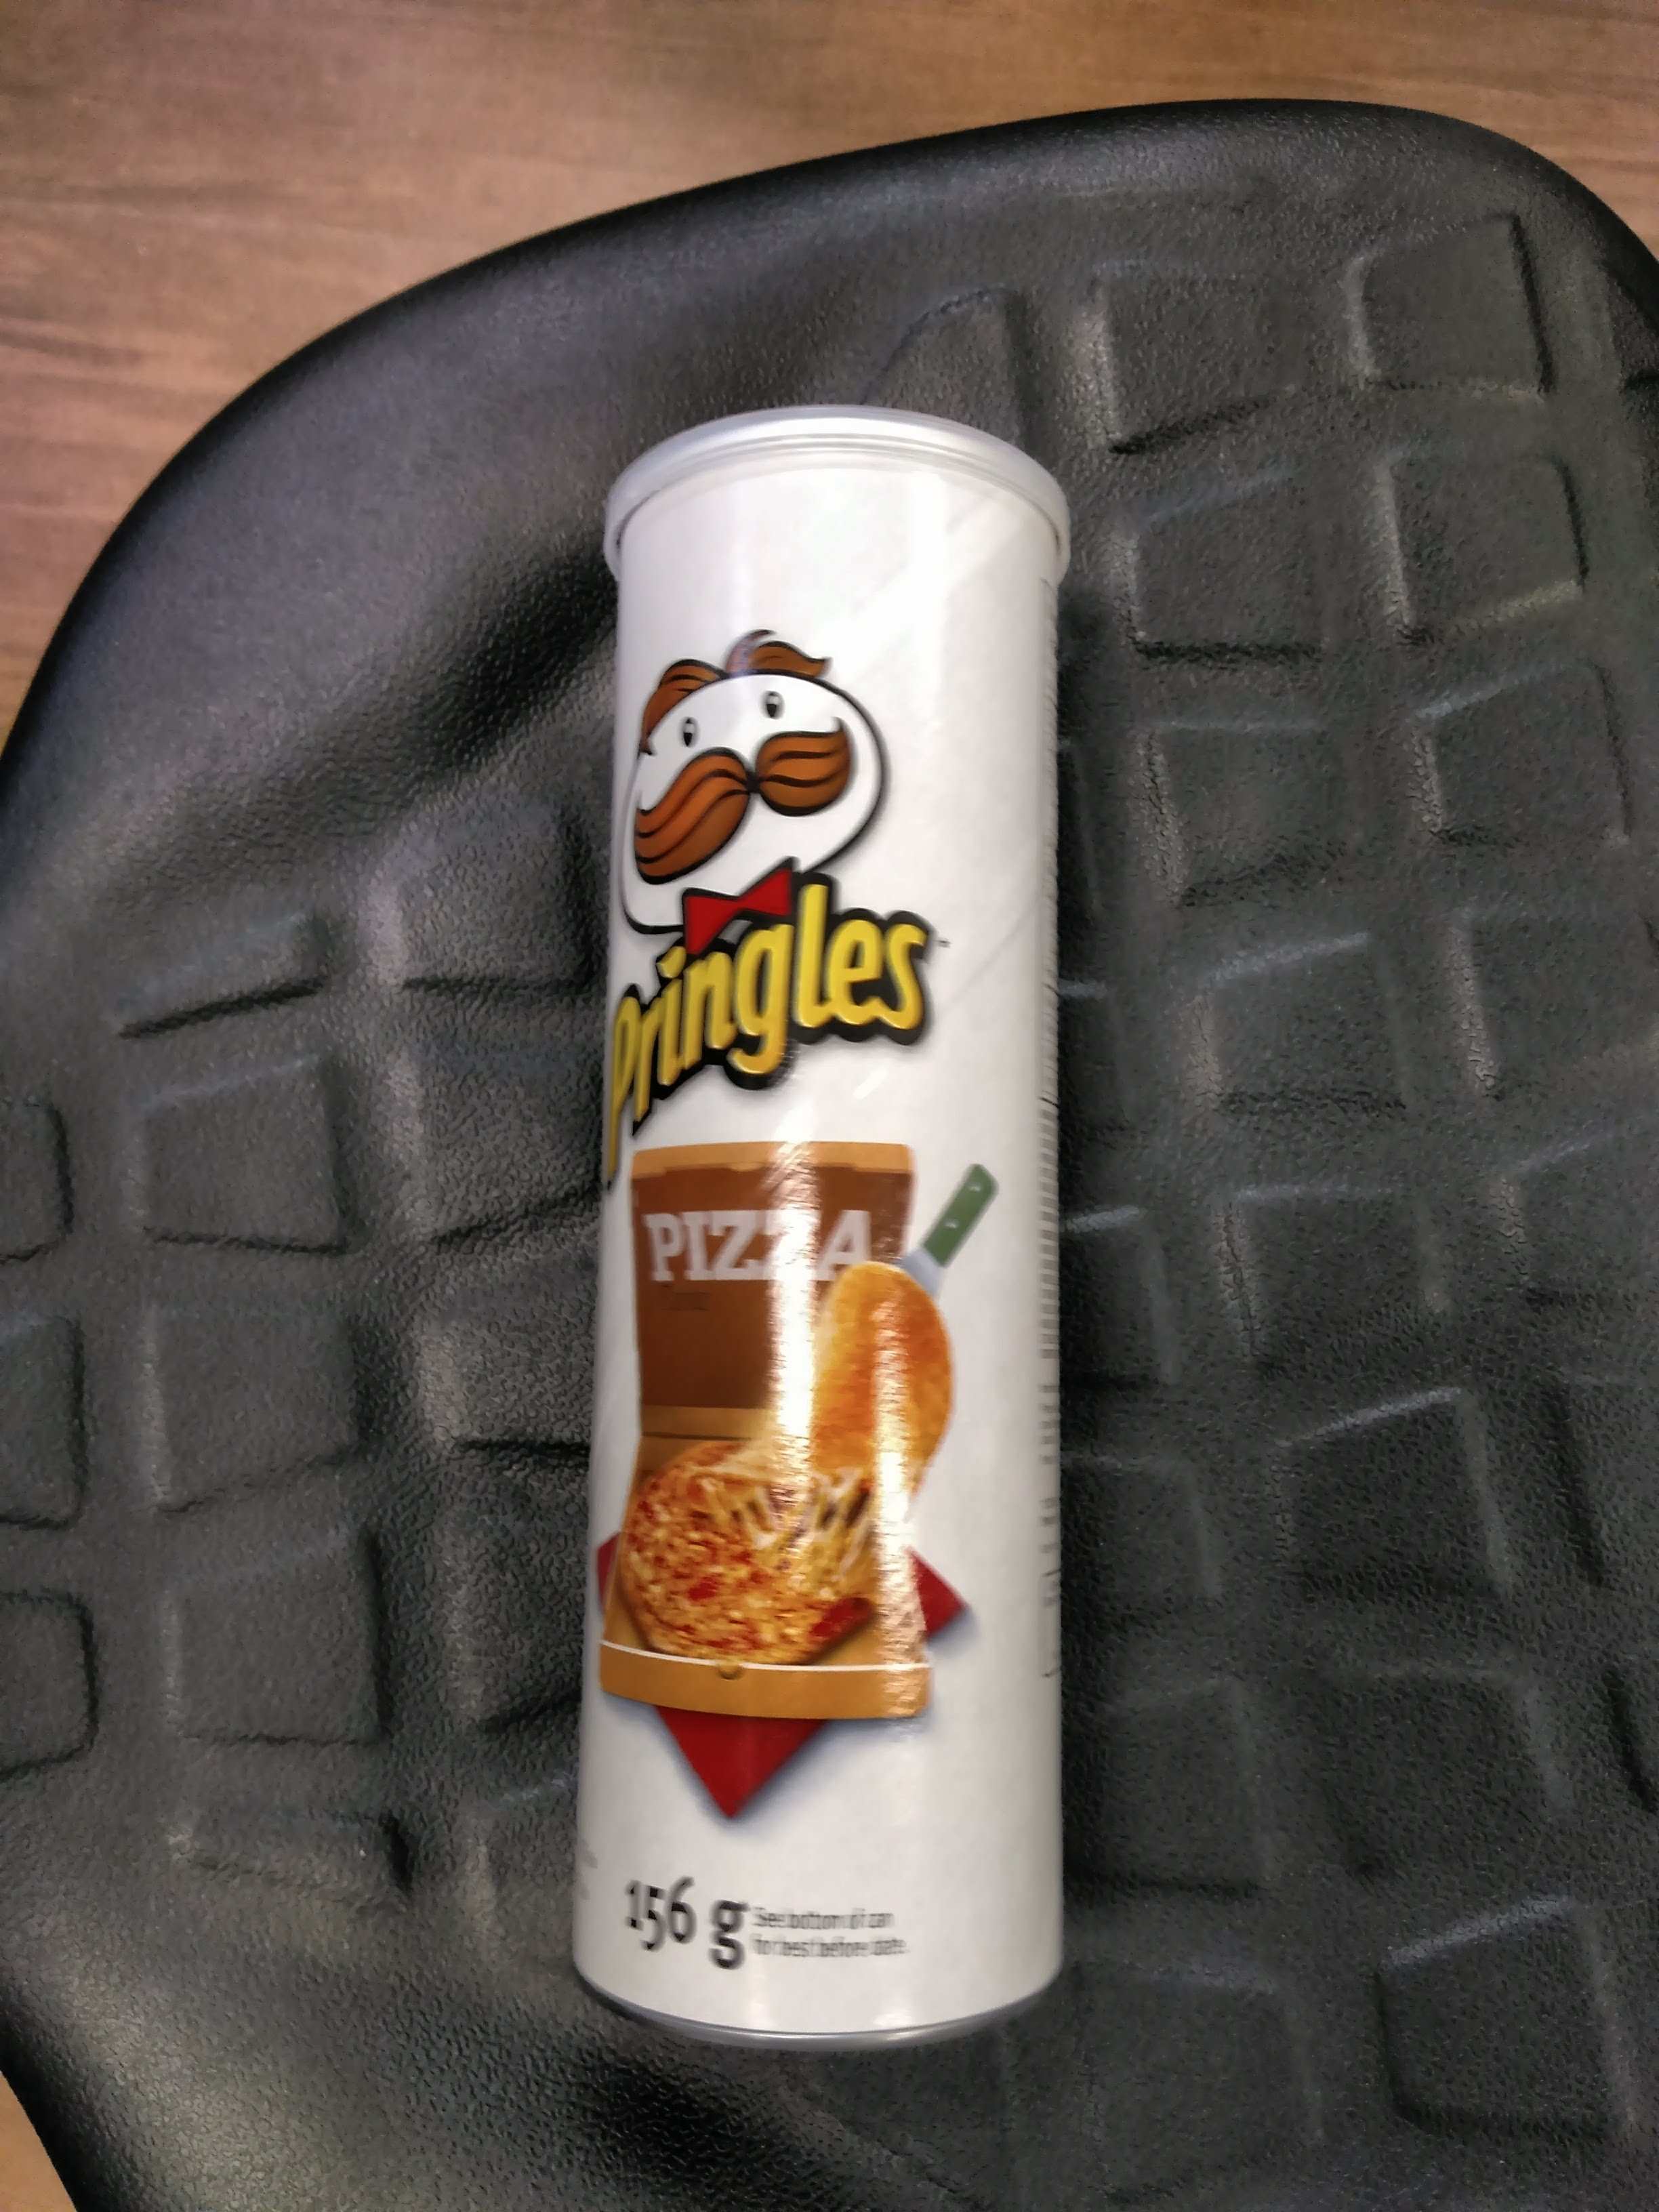pringles: (559, 404, 1136, 2074)
